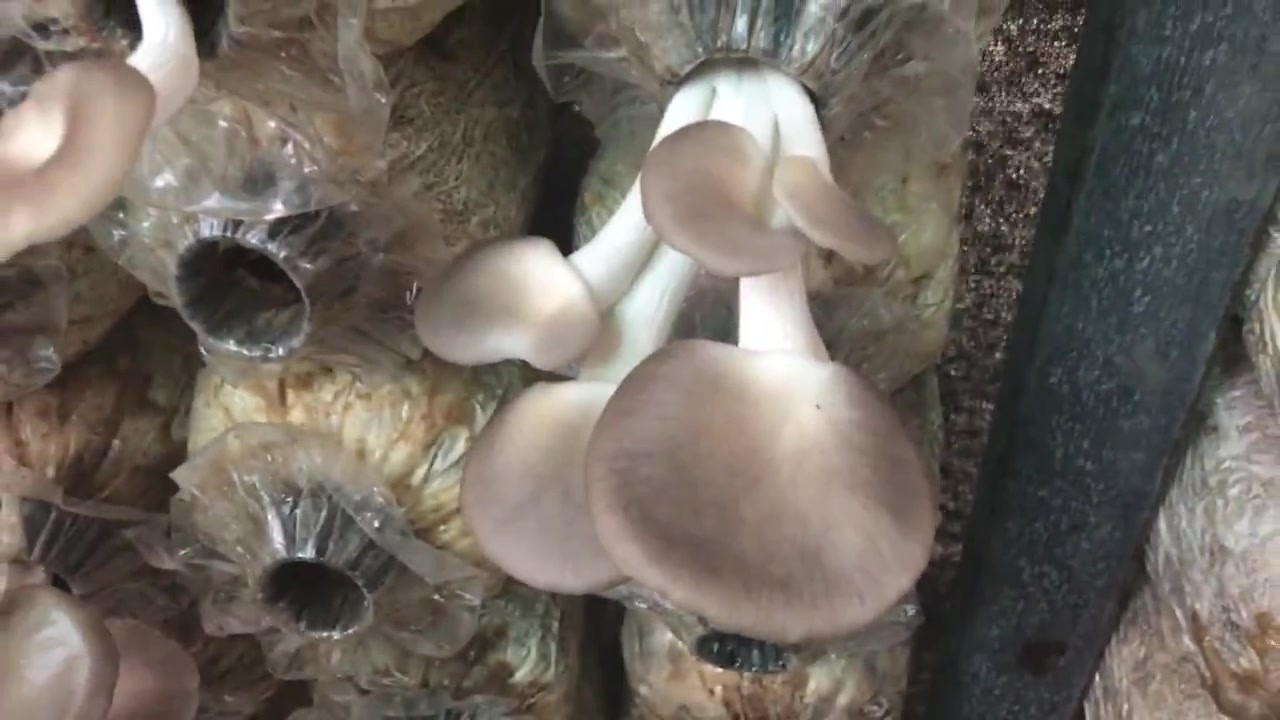nam: (418, 1, 936, 646), (1, 1, 223, 255), (1, 580, 200, 719)
